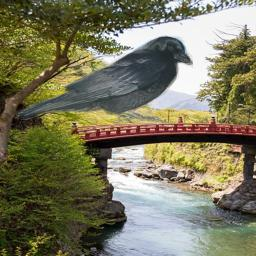Crow: (15, 35, 193, 122)
